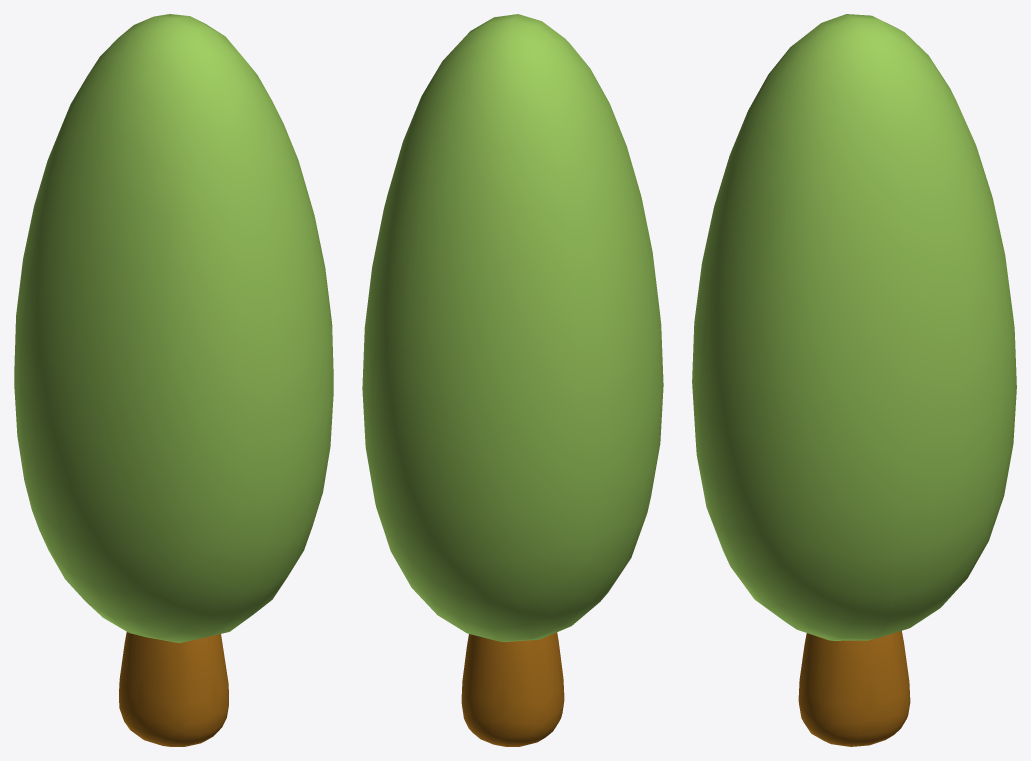
The model's file is Tree2.fbx.
3 renders of one model, left to right at view 1: azimuth 30°, elevation 25°; view 2: azimuth 150°, elevation 25°; view 3: azimuth 270°, elevation 25°, orthographic.
Visible parts, largest first — view 1: Tree2; view 2: Tree2; view 3: Tree2.
Boxes of the visible parts, x1,y1,x2,y2 form: Tree2: (14, 14, 333, 746); Tree2: (362, 14, 663, 746); Tree2: (692, 14, 1016, 746).
Size of the model in its own units: 1.96 by 5.1 by 2.09.
